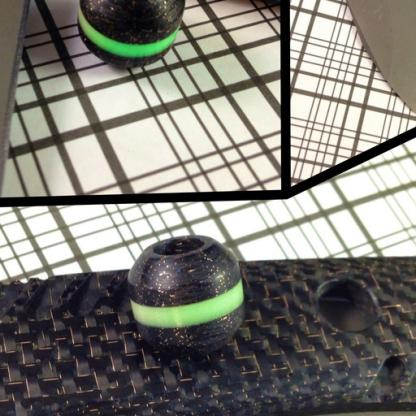knife: (0, 233, 415, 415), (0, 0, 290, 208)
